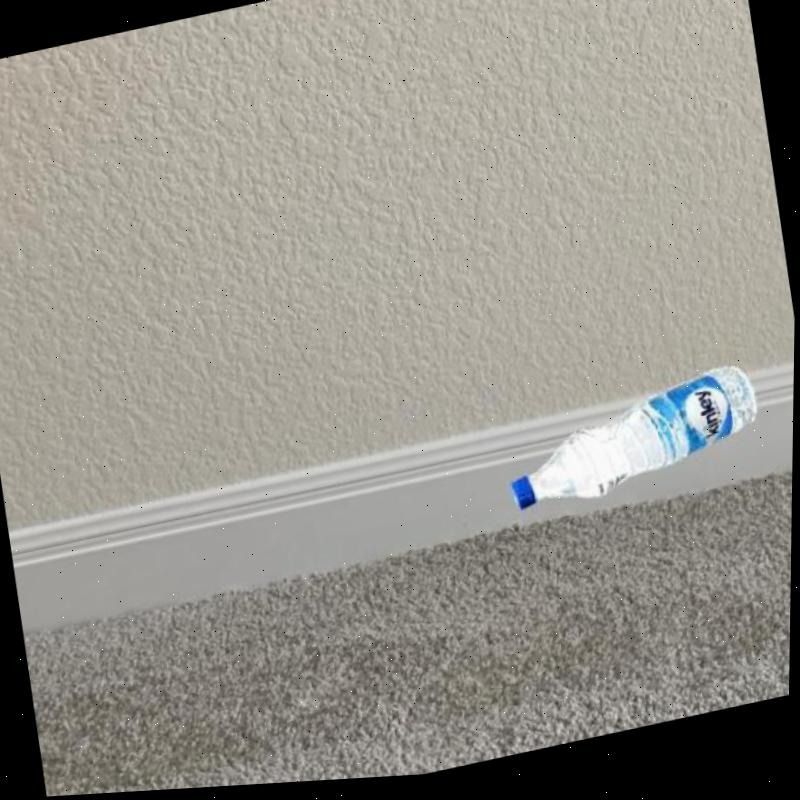botella: (501, 366, 769, 523)
